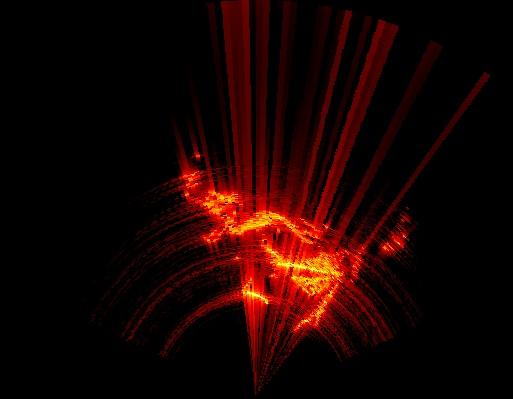shipwreck: (188, 176, 358, 329)
